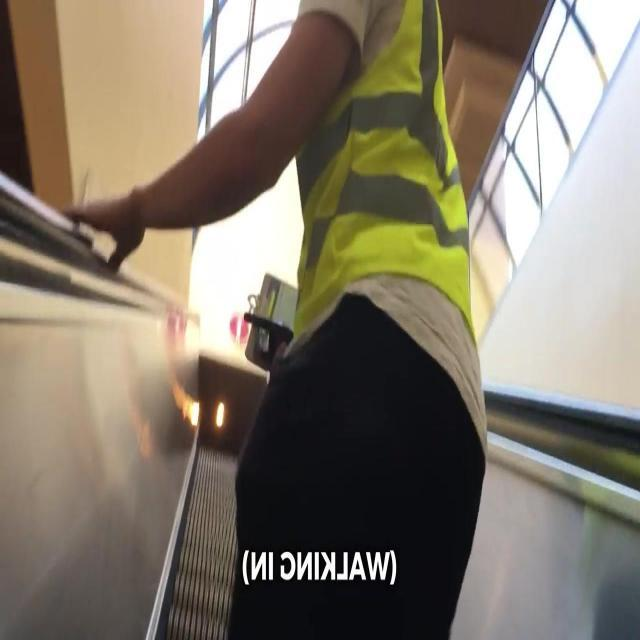reflective_jacket: (284, 0, 489, 450)
